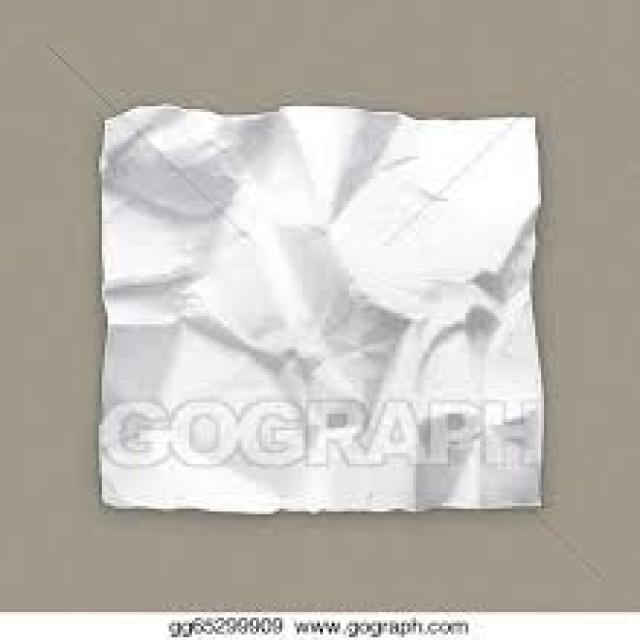paper: (96, 101, 544, 509)
